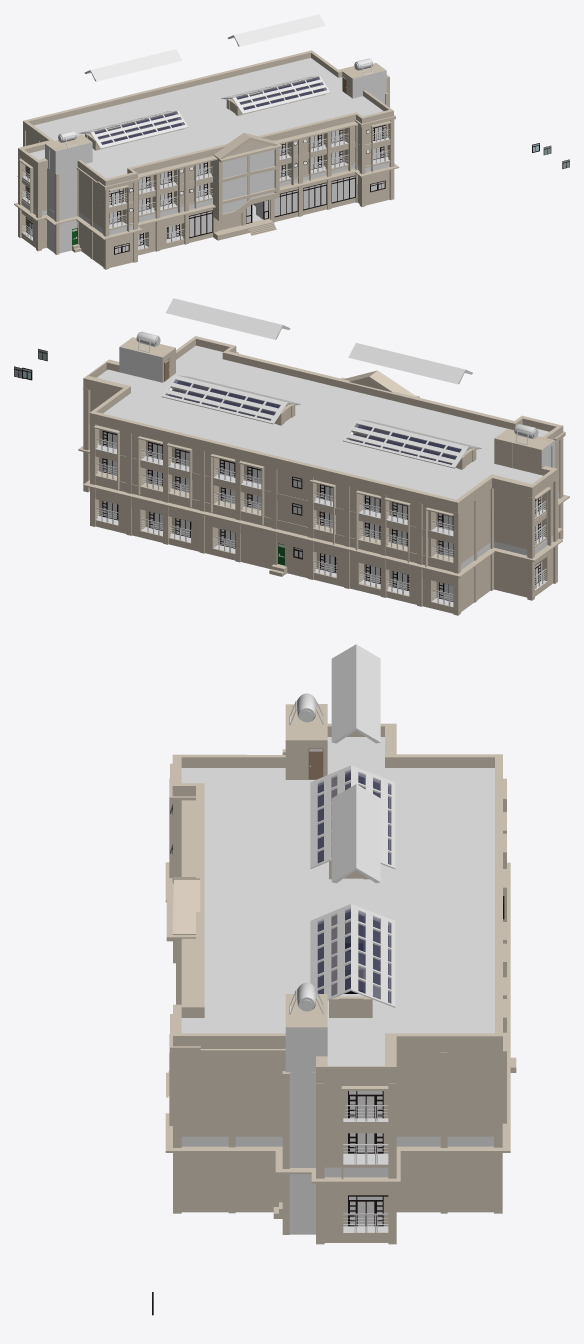
Rendered from AR Building.fbx.
3 renders of one model, top to bottom at view 1: azimuth 30°, elevation 25°; view 2: azimuth 150°, elevation 25°; view 3: azimuth 270°, elevation 25°, orthographic. The views are drawn at different scales.
Parts seen in each view (by area): view 1: Arwalls, 3rd Floor Roof Floor, Pillars Combined, Solar Panel Roofing, Roof.001, Plane.013, Big Windows Front, 2nd Floor Balcony Front, 3rd Floor Balcony Front, Dividers, Balcony Fences, Big Windows Front.001 (+1 smaller); view 2: Arwalls, 3rd Floor Roof Floor, Pillars Combined, Roof 1st floor, Solar Panel Roofing, Roof.001, 1st Floor Balcony Back, 3rd Balcony Back, Dividers, 2nd Floor Balcony Back; view 3: Arwalls, 3rd Floor Roof Floor, Solar Panel Roofing, Pillars Combined, Roof.001, Balcony Fences, Dividers, Plane.012.
Boxes of the visible parts, box(x1,y1,x2,y2) form: Arwalls: box(14, 50, 399, 267); 3rd Floor Roof Floor: box(29, 58, 383, 178); Pillars Combined: box(18, 85, 394, 269); Solar Panel Roofing: box(79, 76, 330, 150); Roof.001: box(84, 14, 325, 81); Plane.013: box(222, 149, 274, 213); Big Windows Front: box(274, 175, 355, 217); 2nd Floor Balcony Front: box(109, 146, 389, 227); 3rd Floor Balcony Front: box(109, 124, 389, 206); Dividers: box(18, 121, 391, 231); Balcony Fences: box(22, 165, 184, 249); Big Windows Front.001: box(189, 210, 212, 238); Arwalls: box(78, 336, 569, 613); 3rd Floor Roof Floor: box(96, 345, 549, 499); Pillars Combined: box(83, 388, 563, 615); Roof 1st floor: box(95, 471, 453, 585); Solar Panel Roofing: box(161, 375, 481, 469); Roof.001: box(166, 298, 472, 384); 1st Floor Balcony Back: box(96, 500, 453, 606); 3rd Balcony Back: box(96, 429, 453, 534); Dividers: box(83, 388, 551, 566); 2nd Floor Balcony Back: box(96, 457, 453, 560); Arwalls: box(165, 704, 516, 1242); 3rd Floor Roof Floor: box(181, 737, 494, 1065); Solar Panel Roofing: box(310, 765, 395, 1017); Pillars Combined: box(173, 749, 502, 1244); Roof.001: box(331, 644, 380, 883); Balcony Fences: box(343, 1091, 388, 1232); Dividers: box(169, 778, 506, 1179); Plane.012: box(292, 1033, 312, 1154).
Size of what is drawn, in the model's own units: 7425 by 2383 by 3050.
